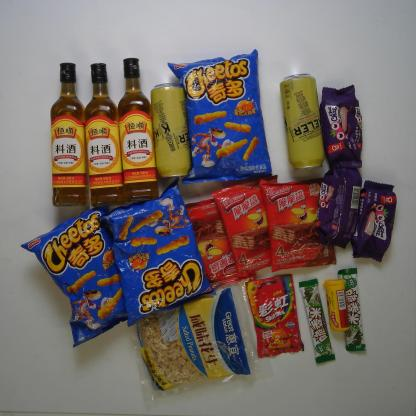Alcohol: (278, 71, 326, 172), (150, 82, 192, 179)
Candy: (244, 271, 304, 360), (322, 277, 352, 333)
Chocolate: (298, 277, 335, 365), (336, 265, 369, 353)
Dessert: (258, 176, 338, 274), (210, 174, 280, 280), (182, 196, 258, 290), (307, 166, 363, 250), (349, 179, 398, 264), (318, 83, 365, 170)
Dried Fruit: (126, 278, 264, 400)
Puffed Food: (95, 174, 217, 328), (18, 204, 130, 350), (166, 48, 273, 185)
Seasoner: (116, 56, 161, 203), (49, 61, 90, 209), (84, 62, 125, 209)
